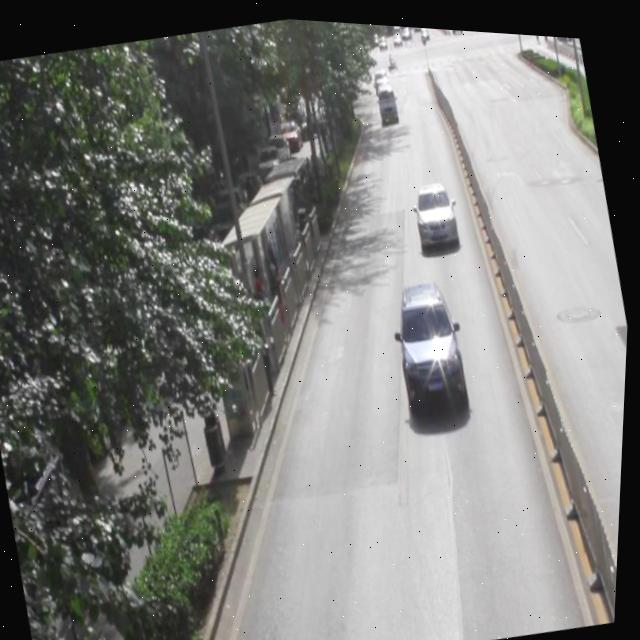car: (385, 269, 474, 404), (408, 170, 460, 242)
